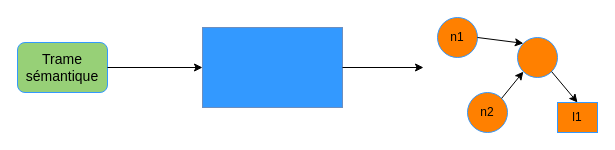
The diagram is 615 pixels wide and 150 high, and some of its shapes have lost their labels. The shapes that lost their labels are listed below. From the top down, each one's centre as x and y in pixels, then its label:
At point 272,67: "Règles de transformation".
At point 537,57: "n3".
